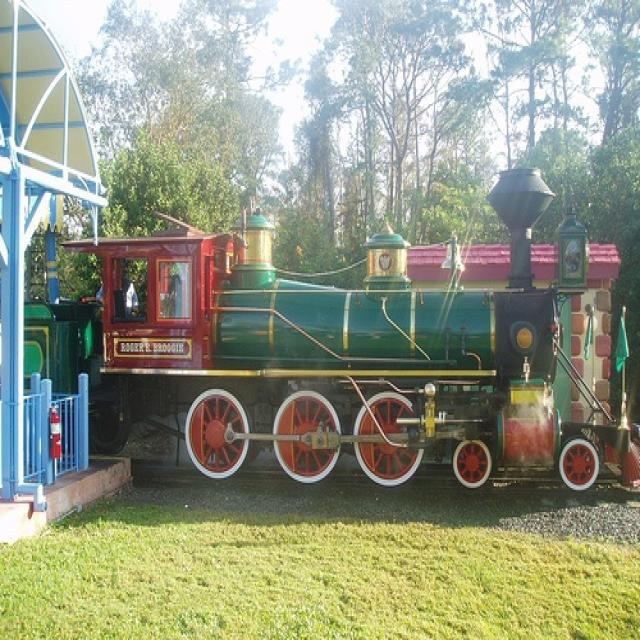train: (0, 169, 630, 488)
